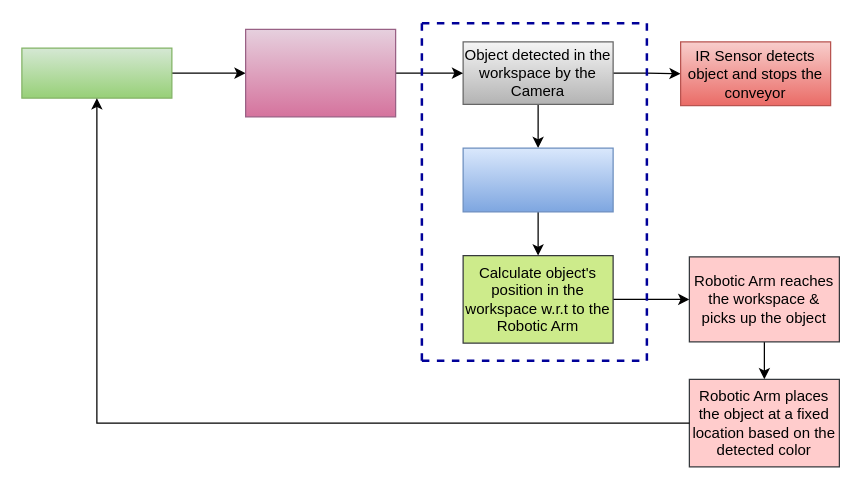
Some shapes in this 861 by 489 pixel diagram are drawn without their labels. The shapes that lost their labels are listed below. From the top down, each one's box as (x1, y1, x2, y2) in pixels, then its label:
(21, 47, 172, 98): Conveyor starts
(244, 28, 396, 117): Arm reaches the observational pose to detect objects in the workspace
(462, 147, 613, 212): Object's color detected
